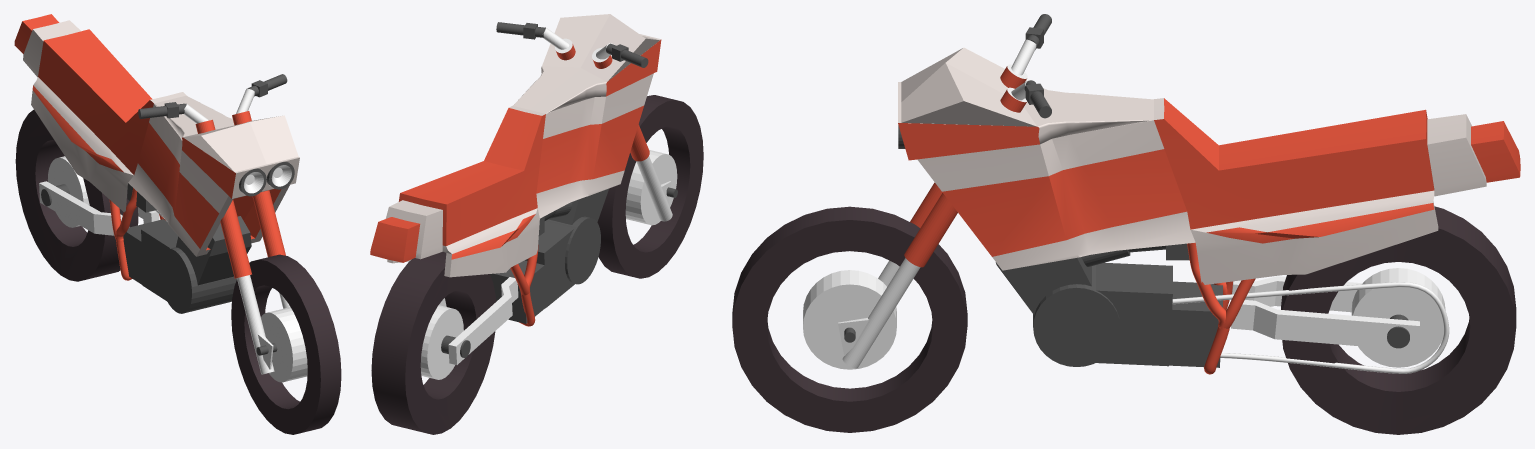
File: bikes_sketchfab.fbx
3 renders of one model, left to right at view 1: azimuth 30°, elevation 25°; view 2: azimuth 150°, elevation 25°; view 3: azimuth 270°, elevation 25°, orthographic. The views are drawn at different scales.
Visible parts, largest first — view 1: Cube, Cylinder, Cylinder.001, Cylinder.003, Cube.002, Cube.001, Cylinder.002, Cube.005, Cylinder.004, Cube.006, Cube.004, Cylinder.010 (+3 smaller); view 2: Cube, Cylinder.001, Cylinder, Cube.001, Cube.002, Cube.005, Cylinder.005, Cylinder.004, Cube.006, Cylinder.002, Cylinder.003, Cylinder.010 (+2 smaller); view 3: Cube, Cylinder.001, Cylinder, Cube.005, Cube.001, Cube.002, Cube.006, Cylinder.002, Cylinder.004, Cylinder.003, Cylinder.005, BezierCurve.001 (+3 smaller).
Boxes of the visible parts, x1,y1,x2,y2 form: Cube: [14, 14, 289, 256]; Cylinder: [231, 254, 341, 434]; Cylinder.001: [15, 109, 138, 281]; Cylinder.003: [195, 111, 290, 374]; Cube.002: [183, 115, 298, 171]; Cube.001: [154, 95, 299, 198]; Cylinder.002: [159, 247, 236, 313]; Cube.005: [123, 219, 178, 300]; Cylinder.004: [261, 307, 307, 382]; Cube.006: [39, 181, 159, 235]; Cube.004: [176, 216, 251, 285]; Cylinder.010: [138, 74, 287, 123]; Cube: [370, 73, 653, 277]; Cylinder.001: [371, 251, 495, 434]; Cylinder: [597, 95, 703, 278]; Cube.001: [513, 34, 661, 113]; Cube.002: [542, 14, 659, 81]; Cube.005: [490, 221, 574, 323]; Cylinder.005: [420, 305, 463, 379]; Cylinder.004: [625, 149, 677, 225]; Cube.006: [439, 277, 518, 364]; Cylinder.002: [545, 216, 600, 284]; Cylinder.003: [555, 38, 672, 221]; Cylinder.010: [496, 22, 648, 67]; Cube: [917, 98, 1520, 284]; Cylinder.001: [1281, 206, 1516, 434]; Cylinder: [732, 206, 967, 432]; Cube.005: [1096, 262, 1222, 367]; Cube.001: [898, 82, 1153, 160]; Cube.002: [901, 47, 1036, 126]; Cube.006: [1231, 276, 1419, 350]; Cylinder.002: [1033, 265, 1120, 366]; Cylinder.004: [803, 270, 896, 369]; Cylinder.003: [842, 64, 1027, 368]; Cylinder.005: [1351, 268, 1445, 367]; BezierCurve.001: [1172, 282, 1449, 373].
Size of the model in its own units: 283 by 518 by 1009.
